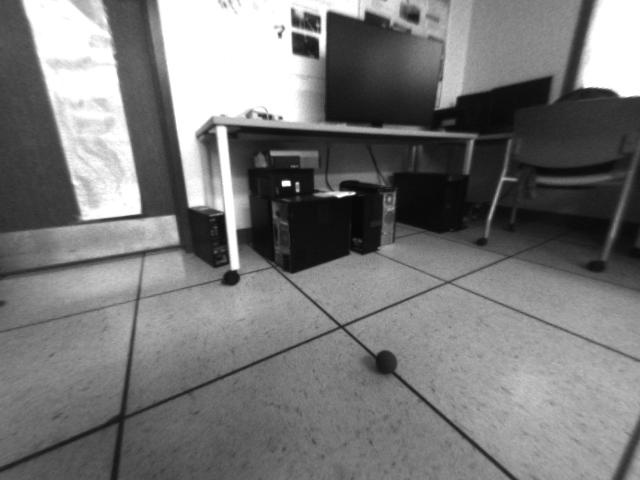dogtoy: (368, 341, 405, 381)
